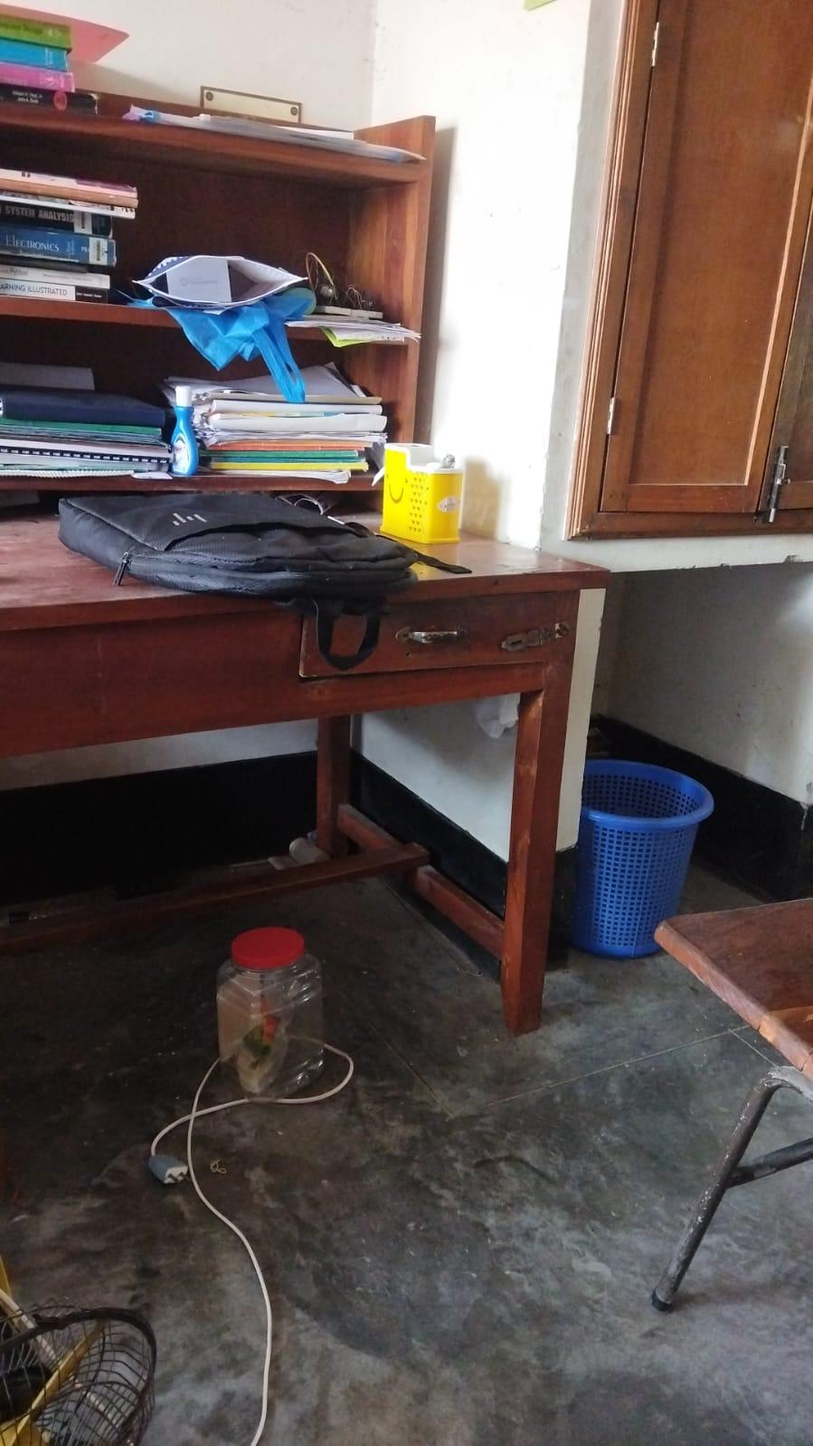Bag: (36, 470, 409, 615)
Basket: (573, 737, 711, 997)
Book: (185, 365, 382, 481), (0, 157, 136, 309), (2, 355, 147, 474), (0, 25, 84, 134)
Drawer: (283, 592, 579, 684)
Fan: (0, 1217, 151, 1446)
Jar: (199, 913, 336, 1096)
Pen Stand: (378, 418, 464, 550)
Table: (0, 84, 554, 1068)
